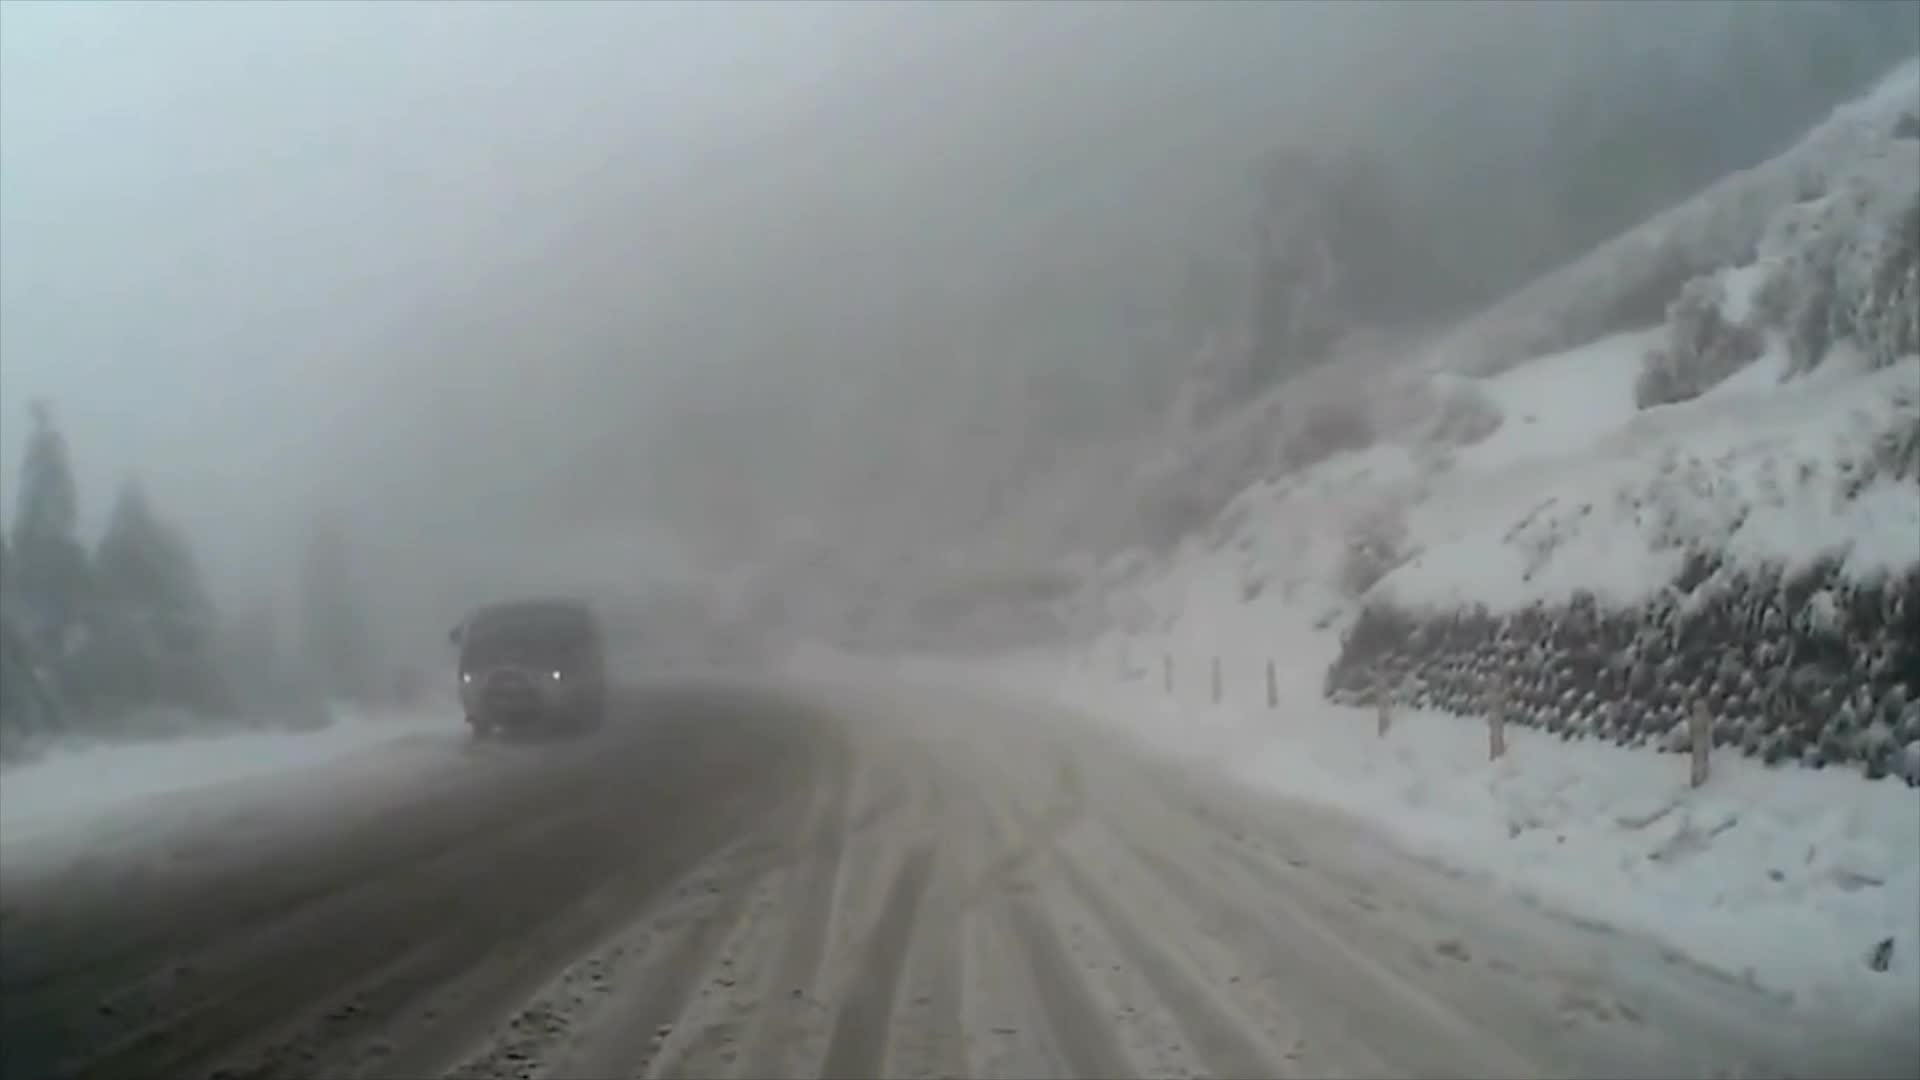vehicle: (444, 597, 604, 737)
